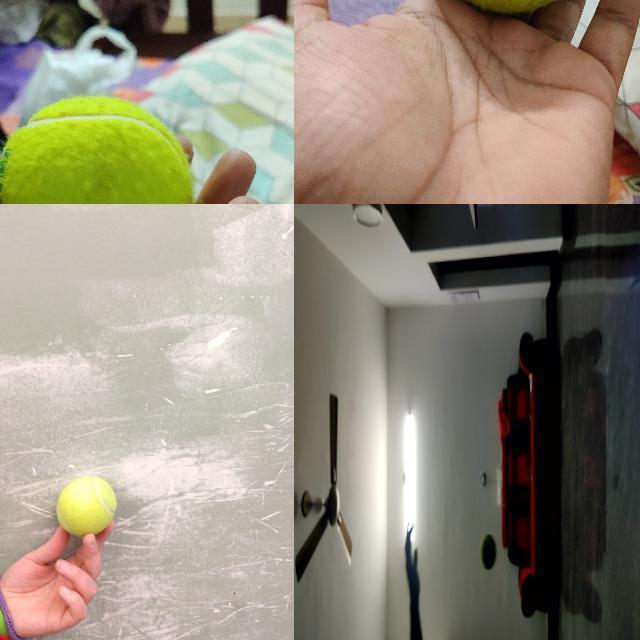tennis-ball: (0, 95, 195, 203), (56, 475, 118, 538), (480, 535, 496, 570)
